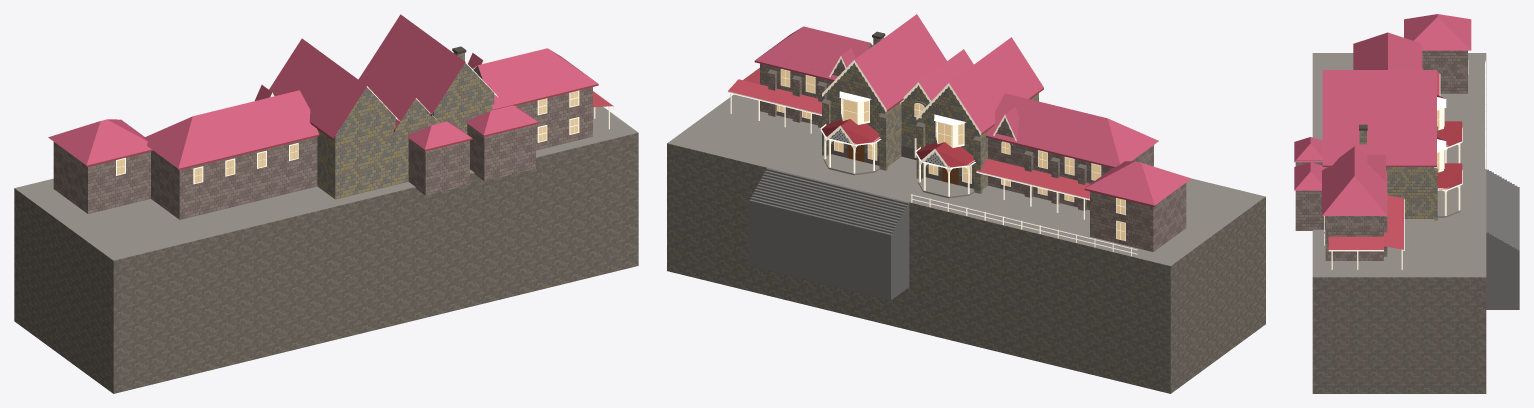
The model's file is murree_gpo.glb.
3 renders of one model, left to right at view 1: azimuth 30°, elevation 25°; view 2: azimuth 150°, elevation 25°; view 3: azimuth 270°, elevation 25°, orthographic. The views are drawn at different scales.
Visible parts, largest first — view 1: m_gpo_skirt_stone, m_gpo_roof_red, m_gpo_wing_stone, m_gpo_terrace, m_gpo_stone, m_gpo_awning_red, m_gpo_pane, m_gpo_white; view 2: m_gpo_skirt_stone, m_gpo_roof_red, m_gpo_terrace, m_gpo_step_grey, m_gpo_wing_stone, m_gpo_stone, m_gpo_white, m_gpo_awning_red, m_gpo_pane, m_gpo_porch_red, m_gpo_dado; view 3: m_gpo_skirt_stone, m_gpo_roof_red, m_gpo_terrace, m_gpo_wing_stone, m_gpo_step_grey, m_gpo_stone, m_gpo_awning_red, m_gpo_white, m_gpo_porch_red.
Boxes of the visible parts, x1=… form: m_gpo_skirt_stone: x1=14, y1=132, x2=638, y2=393; m_gpo_roof_red: x1=48, y1=14, x2=598, y2=168; m_gpo_wing_stone: x1=53, y1=65, x2=592, y2=219; m_gpo_terrace: x1=14, y1=106, x2=637, y2=260; m_gpo_stone: x1=317, y1=52, x2=494, y2=199; m_gpo_awning_red: x1=86, y1=84, x2=612, y2=170; m_gpo_pane: x1=117, y1=91, x2=578, y2=183; m_gpo_white: x1=49, y1=60, x2=613, y2=184; m_gpo_skirt_stone: x1=667, y1=143, x2=1265, y2=393; m_gpo_roof_red: x1=755, y1=14, x2=1191, y2=205; m_gpo_terrace: x1=667, y1=94, x2=1265, y2=265; m_gpo_step_grey: x1=749, y1=168, x2=909, y2=300; m_gpo_wing_stone: x1=760, y1=43, x2=1186, y2=251; m_gpo_stone: x1=822, y1=37, x2=1038, y2=193; m_gpo_white: x1=727, y1=44, x2=1137, y2=256; m_gpo_awning_red: x1=728, y1=61, x2=1154, y2=206; m_gpo_pane: x1=776, y1=69, x2=1124, y2=240; m_gpo_porch_red: x1=821, y1=119, x2=975, y2=167; m_gpo_dado: x1=768, y1=69, x2=1086, y2=188; m_gpo_skirt_stone: x1=1312, y1=277, x2=1486, y2=393; m_gpo_roof_red: x1=1294, y1=14, x2=1471, y2=215; m_gpo_terrace: x1=1312, y1=53, x2=1486, y2=277; m_gpo_wing_stone: x1=1295, y1=50, x2=1467, y2=260; m_gpo_step_grey: x1=1486, y1=169, x2=1519, y2=309; m_gpo_stone: x1=1325, y1=130, x2=1437, y2=220; m_gpo_awning_red: x1=1322, y1=72, x2=1439, y2=249; m_gpo_white: x1=1324, y1=60, x2=1485, y2=269; m_gpo_porch_red: x1=1437, y1=95, x2=1462, y2=189.
Size of the model in its own units: 66 by 28.9 by 28.06.
14 materials, 4 textured.
